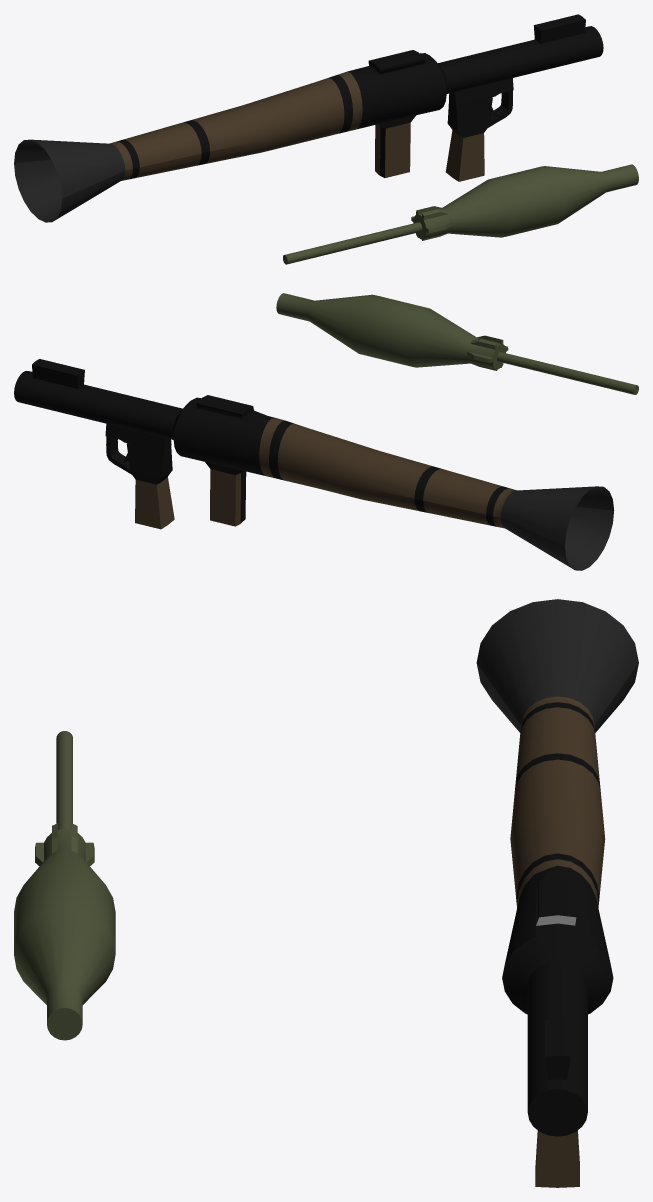
File: Warhead.fbx
The picture shows the model from 3 angles, top to bottom: view 1: azimuth 30°, elevation 25°; view 2: azimuth 150°, elevation 25°; view 3: azimuth 270°, elevation 25°; orthographic projection. The views are drawn at different scales.
Visible parts, largest first — view 1: Rocket_launder, Warhead; view 2: Rocket_launder, Warhead; view 3: Rocket_launder, Warhead.
Part boxes in pixels (bbox=[...]): Rocket_launder: bbox=[14, 14, 603, 222]; Warhead: bbox=[283, 164, 638, 264]; Rocket_launder: bbox=[14, 359, 614, 570]; Warhead: bbox=[276, 293, 638, 394]; Rocket_launder: bbox=[476, 599, 638, 1187]; Warhead: bbox=[14, 731, 115, 1040].
Bounding box in the file's own units: 15.03 × 3.5 × 8.7.
